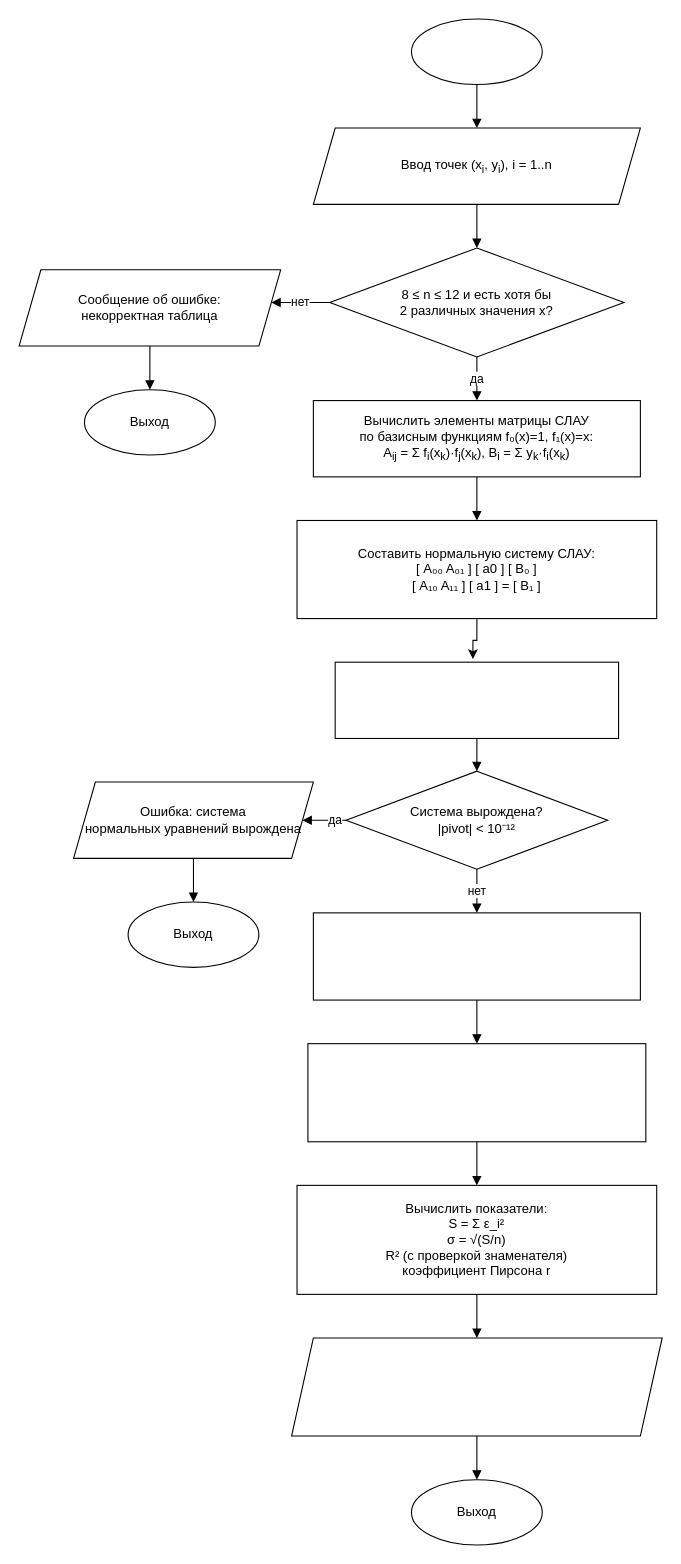
The diagram is 681 pixels wide and 1564 high, and some of its shapes have lost their labels. Each missing label, with the box of its shape:
Вывод результата: a0, a1, S, σ, R², r, массивы x i , y i , φ i , ε i: (290, 1337, 662, 1436)
Для всех i вычислить: φ i = a1·x i + a0 ε i = φi − y i: (307, 1043, 646, 1142)
Начало: (410, 18, 542, 84)
Обратный ход метода Гаусса: Получить a0, a1 φ(x) = a1·x + a0: (312, 912, 640, 1000)
Прямой ход метода Гаусса с выбором главного элемента по столбцу: (334, 661, 619, 738)
